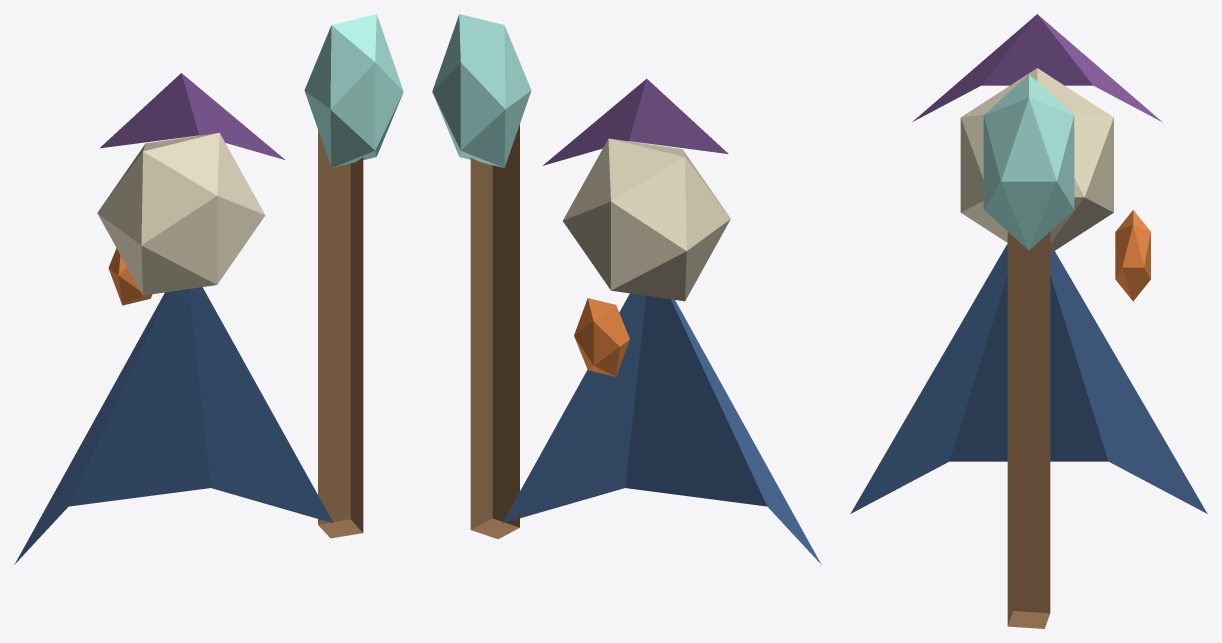
File: player_wizard.glb
3 views of the same model, side by side, from view 1: azimuth 30°, elevation 25°; view 2: azimuth 150°, elevation 25°; view 3: azimuth 270°, elevation 25° (orthographic). The views are drawn at different scales.
Parts seen in each view (by area): view 1: robe, head, staff, staff_crystal, hood, pendant; view 2: robe, staff, head, staff_crystal, hood, pendant; view 3: robe, staff, staff_crystal, head, hood, pendant.
Part boxes in pixels (x1,y1,x2,y2): robe: [14, 287, 333, 564]; head: [97, 132, 265, 295]; staff: [318, 130, 363, 538]; staff_crystal: [304, 14, 403, 167]; hood: [100, 73, 284, 159]; pendant: [108, 248, 152, 305]; robe: [502, 293, 821, 564]; staff: [470, 124, 519, 538]; head: [563, 138, 730, 301]; staff_crystal: [432, 14, 531, 167]; hood: [542, 78, 728, 165]; pendant: [574, 298, 629, 376]; robe: [850, 244, 1207, 513]; staff: [1007, 232, 1050, 628]; staff_crystal: [983, 74, 1074, 250]; head: [960, 68, 1113, 253]; hood: [912, 14, 1161, 121]; pendant: [1115, 210, 1150, 301].
Bounding box in the file's own units: 1 × 1.43 × 0.8579.
